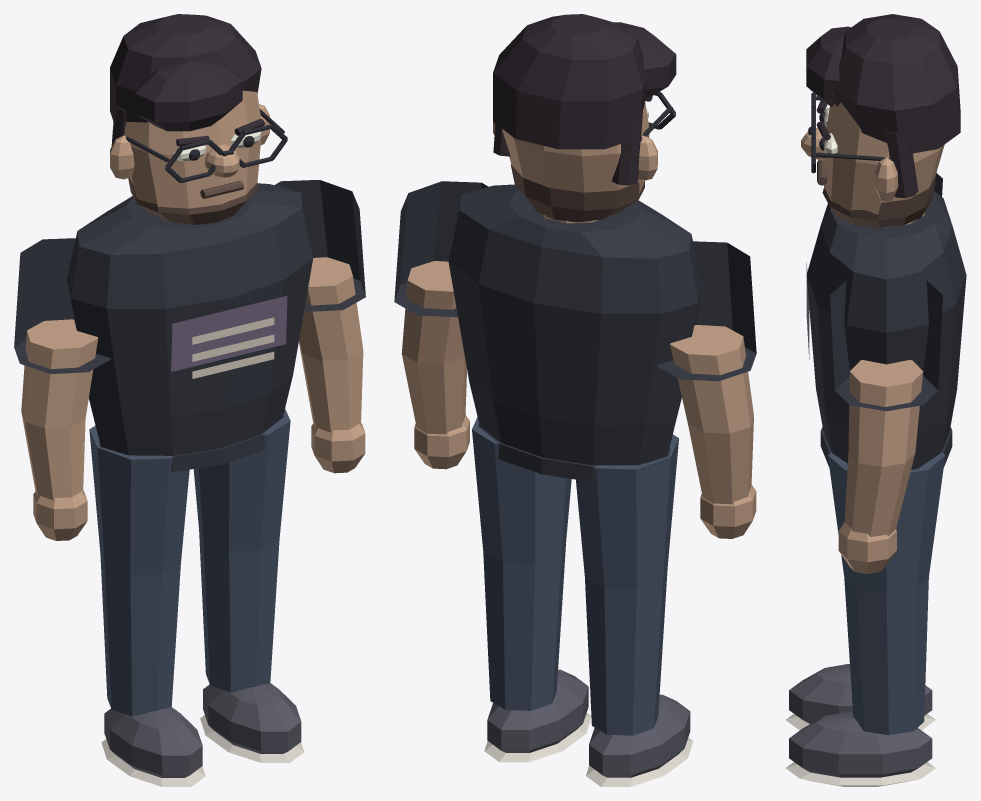
Rendered from gemaplys.glb.
The picture shows the model from 3 angles, left to right: view 1: azimuth 30°, elevation 25°; view 2: azimuth 150°, elevation 25°; view 3: azimuth 270°, elevation 25°; orthographic projection. The views are drawn at different scales.
Parts seen in each view (by area): view 1: Torso, Leg, Leg.001, Arm, Arm.001, Hair, Face, Fringe, Shoe.001, Shoe, Sleeve, Sleeve.001 (+12 smaller); view 2: Torso, Leg, Leg.001, Hair, Arm, Arm.001, Sleeve, Sleeve.001, Face, Shoe, Shoe.001, Beard (+8 smaller); view 3: Torso, Leg.001, Hair, Arm.001, Shoe.001, Face, Sleeve.001, Shoe, Fringe, Beard, Hand.001, Sole.001 (+6 smaller).
Part boxes in pixels (x1=…): Torso: x1=67, y1=183, x2=312, y2=455; Leg: x1=89, y1=425, x2=189, y2=716; Leg.001: x1=193, y1=409, x2=290, y2=692; Arm: x1=21, y1=319, x2=98, y2=500; Arm.001: x1=299, y1=257, x2=363, y2=432; Hair: x1=110, y1=14, x2=261, y2=122; Face: x1=124, y1=90, x2=261, y2=208; Fringe: x1=135, y1=61, x2=242, y2=131; Shoe.001: x1=203, y1=683, x2=301, y2=753; Shoe: x1=104, y1=707, x2=202, y2=777; Sleeve: x1=14, y1=238, x2=111, y2=373; Sleeve.001: x1=274, y1=180, x2=365, y2=311; Torso: x1=448, y1=184, x2=702, y2=465; Leg: x1=576, y1=434, x2=678, y2=735; Leg.001: x1=472, y1=417, x2=571, y2=710; Hair: x1=493, y1=14, x2=647, y2=149; Arm: x1=670, y1=325, x2=753, y2=504; Arm.001: x1=401, y1=261, x2=466, y2=434; Sleeve: x1=656, y1=241, x2=756, y2=381; Sleeve.001: x1=394, y1=181, x2=488, y2=317; Face: x1=502, y1=102, x2=649, y2=193; Shoe: x1=589, y1=694, x2=690, y2=777; Shoe.001: x1=487, y1=669, x2=588, y2=752; Beard: x1=511, y1=164, x2=644, y2=222; Torso: x1=806, y1=191, x2=966, y2=469; Leg.001: x1=827, y1=452, x2=945, y2=735; Hair: x1=834, y1=14, x2=960, y2=153; Arm.001: x1=844, y1=360, x2=923, y2=536; Shoe.001: x1=789, y1=712, x2=932, y2=777; Face: x1=824, y1=102, x2=944, y2=214; Sleeve.001: x1=830, y1=280, x2=942, y2=411; Shoe: x1=789, y1=664, x2=932, y2=723; Fringe: x1=806, y1=26, x2=850, y2=106; Beard: x1=822, y1=174, x2=936, y2=227; Hand.001: x1=838, y1=522, x2=896, y2=573; Sole.001: x1=785, y1=762, x2=935, y2=786.
Size of the model in its own units: 0.9356 by 1.91 by 0.4312.
